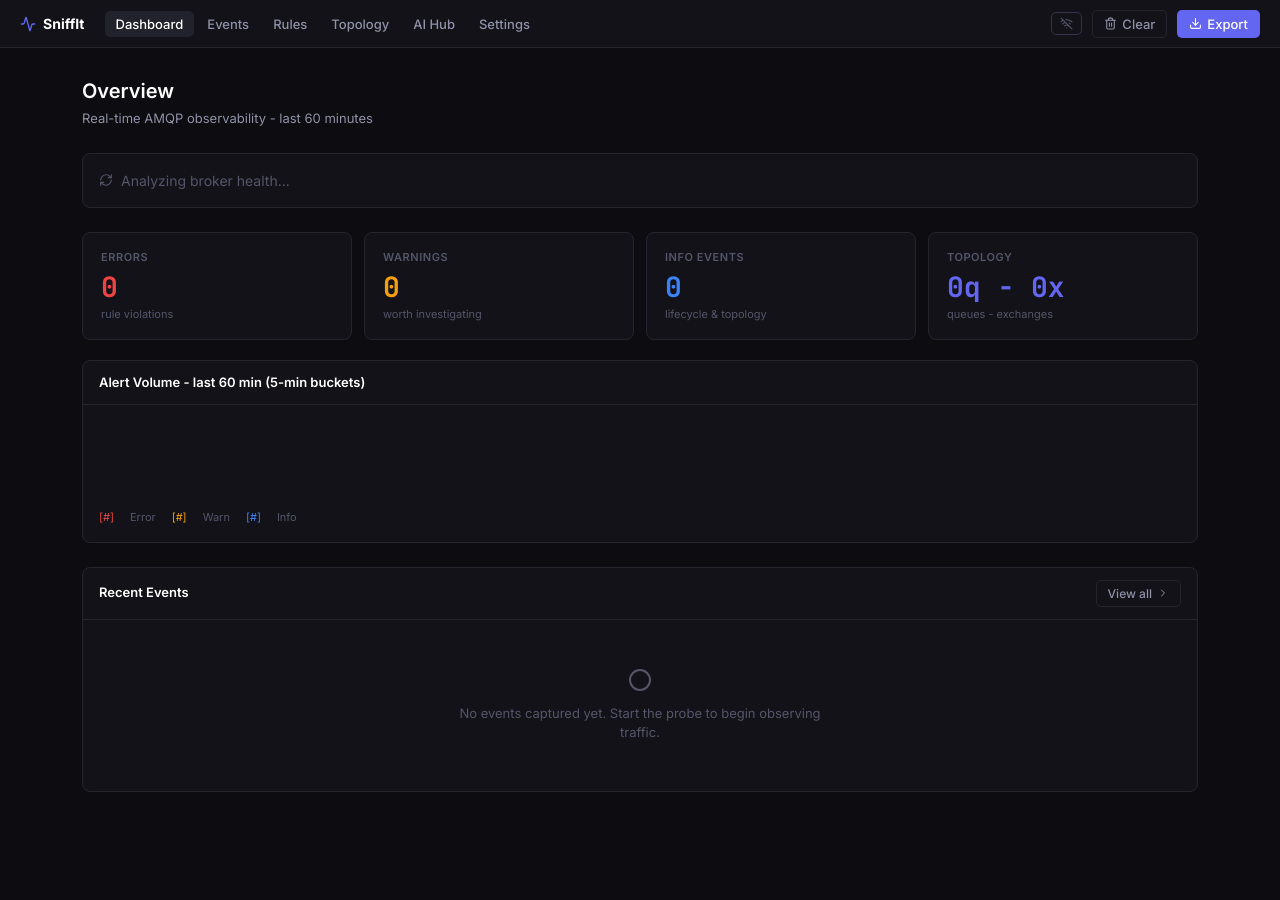
SniffIt APP › handles settings updates
This screenshot has width=1280, height=900.
Click the button "Settings". click: {"x": 504, "y": 24}
box: top-left (468, 10), bottom-right (541, 36)
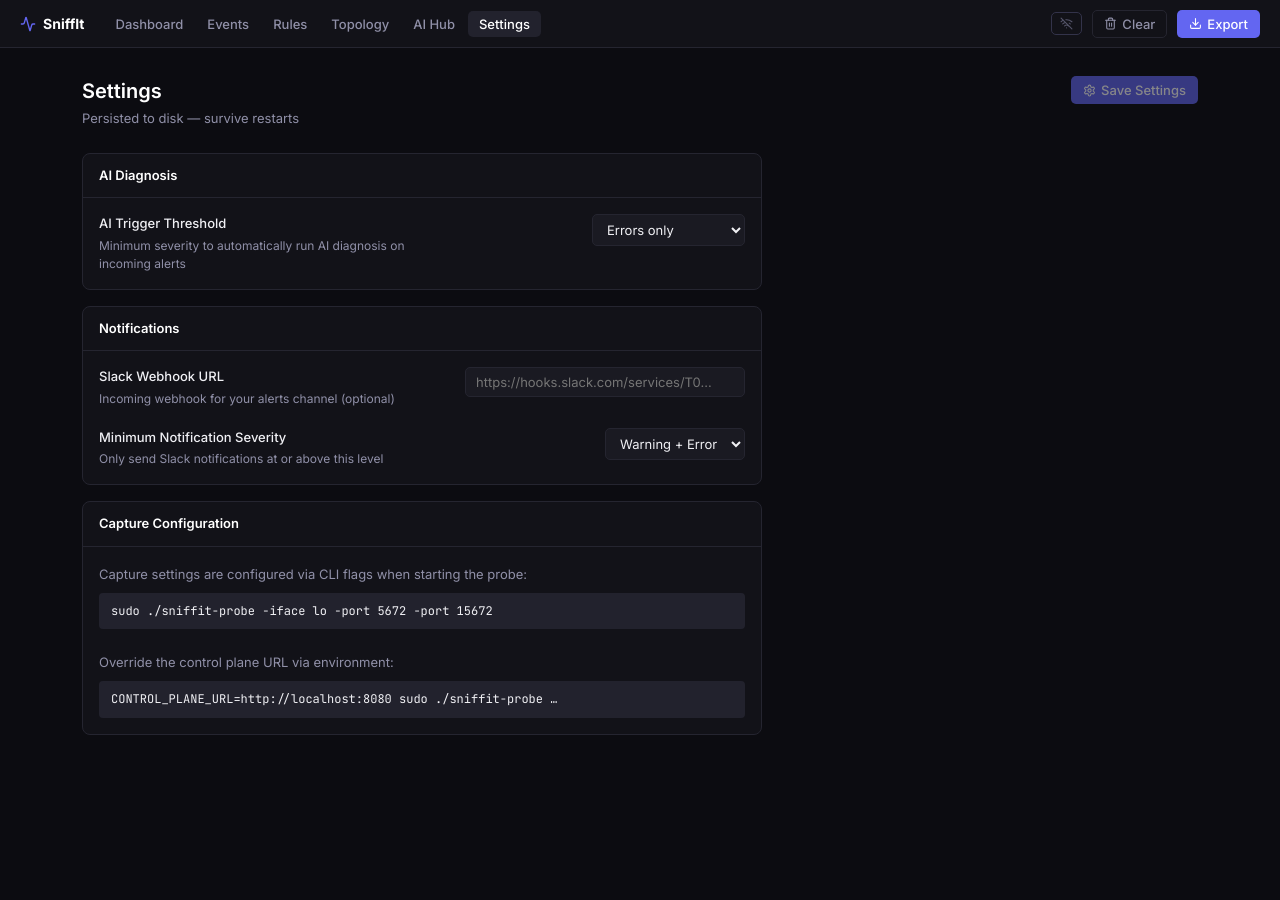
// Wait for data
Select "Warnings + Errors" in the dropdown showing "errors only" in the row of "AI Trigger Threshold". click: {"x": 668, "y": 230}
box: top-left (592, 214), bottom-right (745, 246)
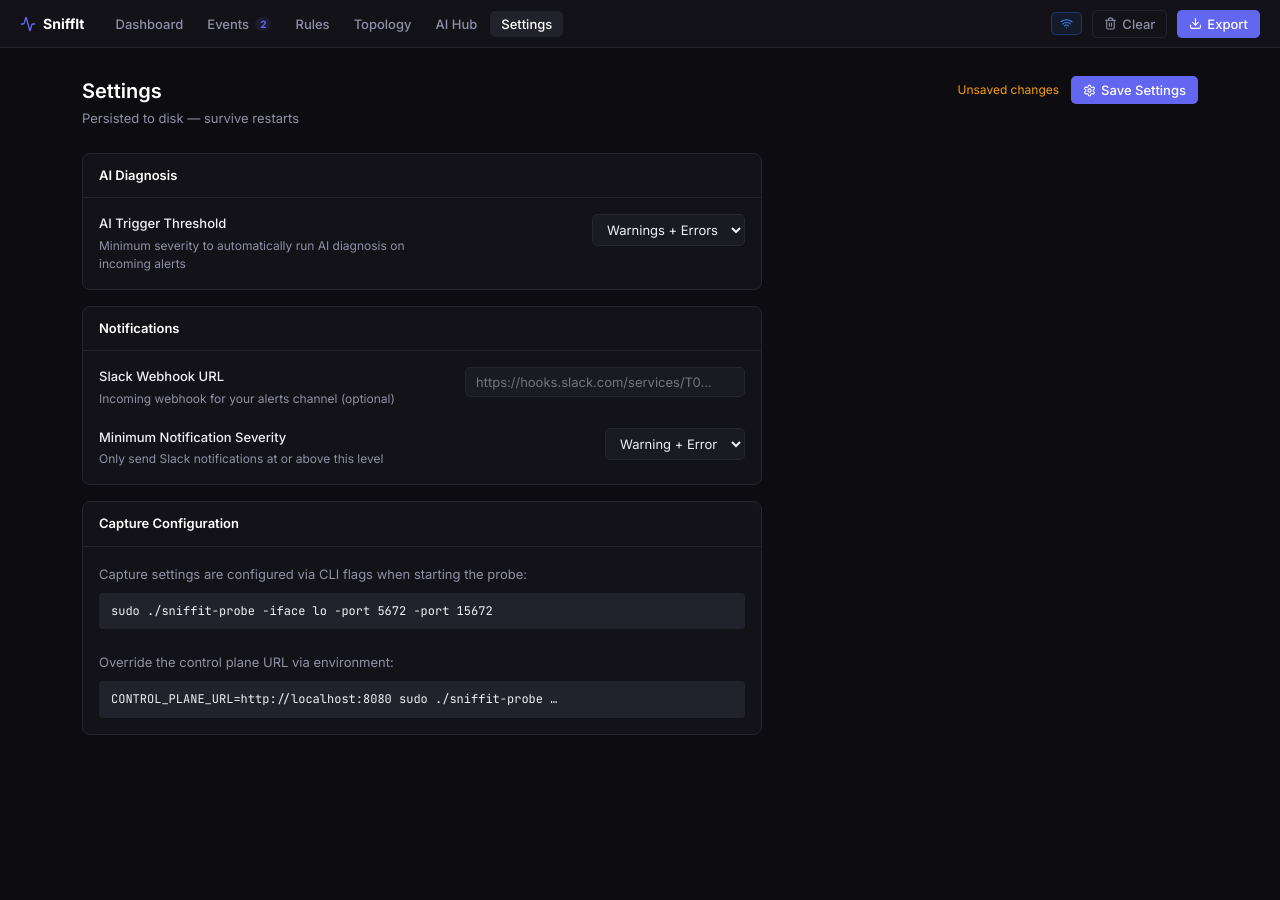
Click the button "Save Settings". click: {"x": 1135, "y": 90}
box: top-left (1071, 76), bottom-right (1198, 104)
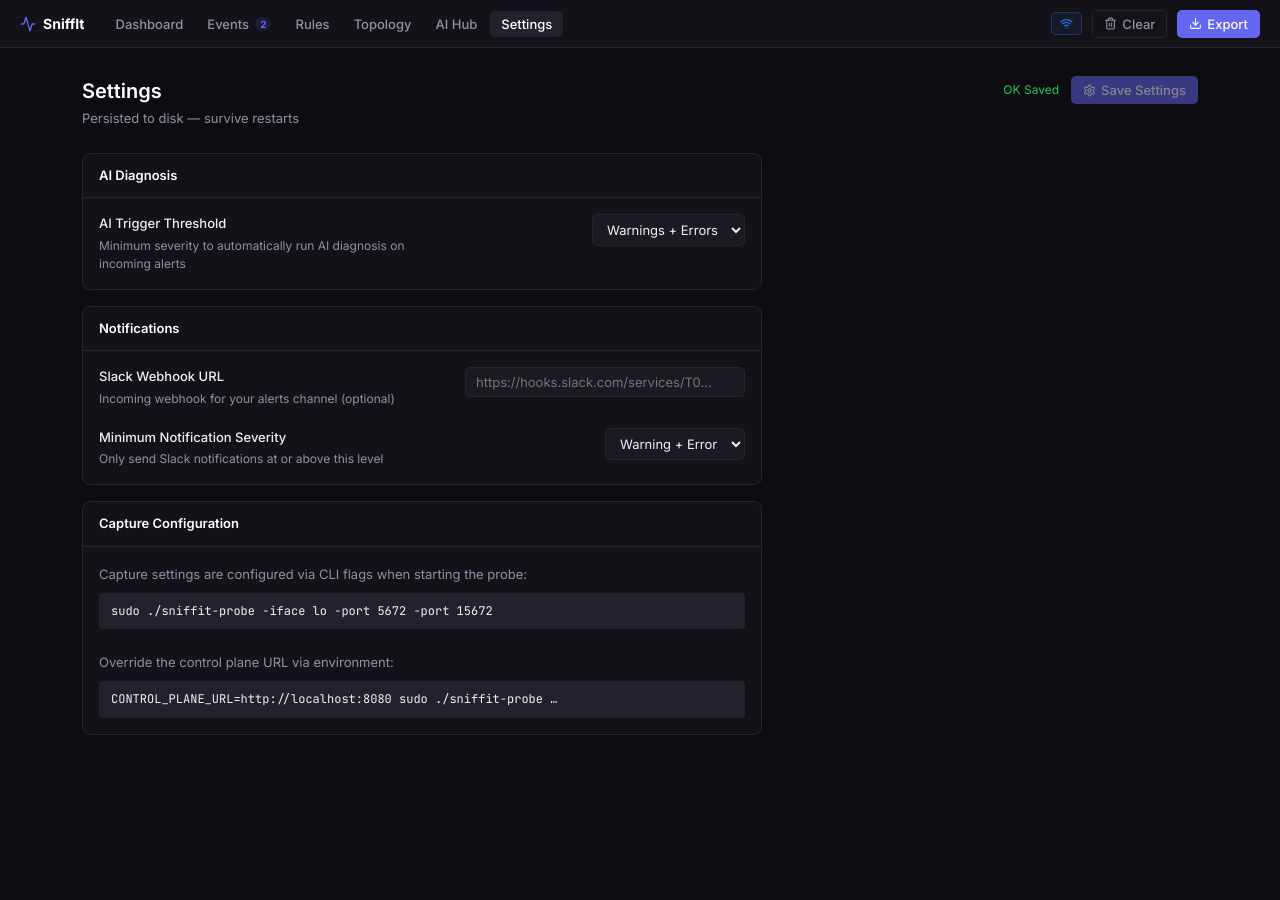
Now the text "OK Saved" is shown, box top-left (1003, 81), bottom-right (1059, 99)
